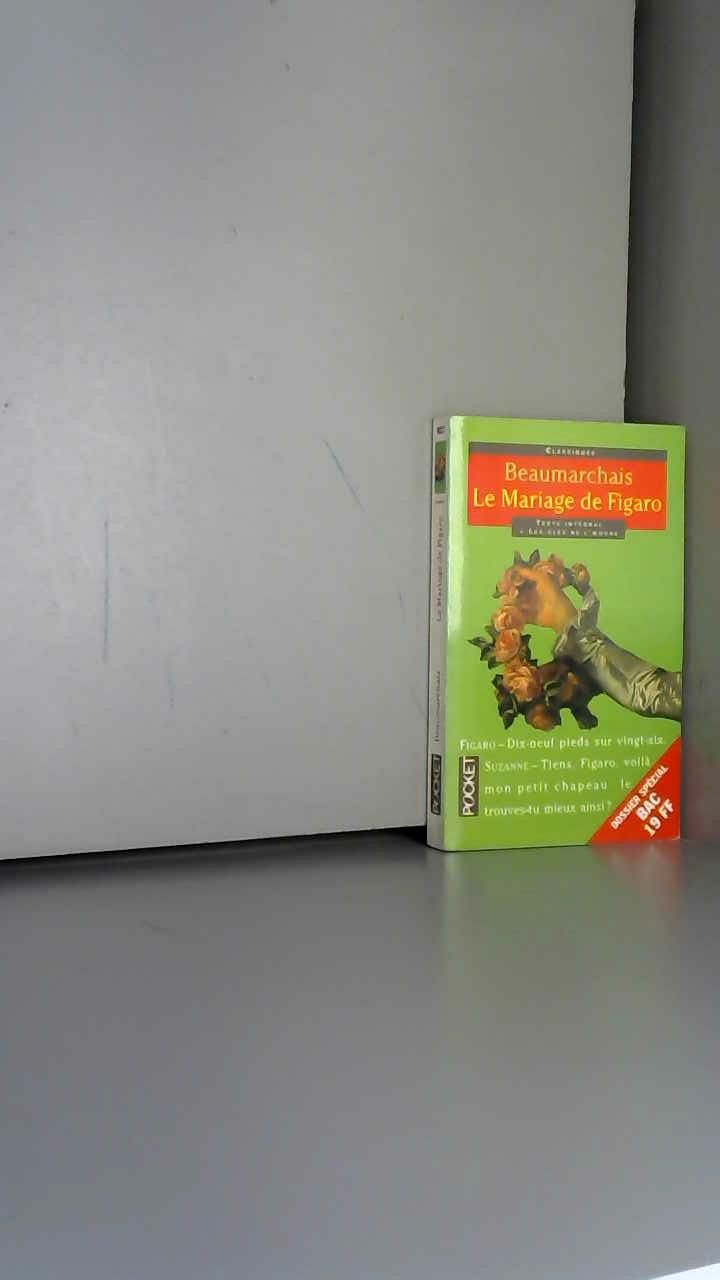book: (410, 390, 720, 924)
